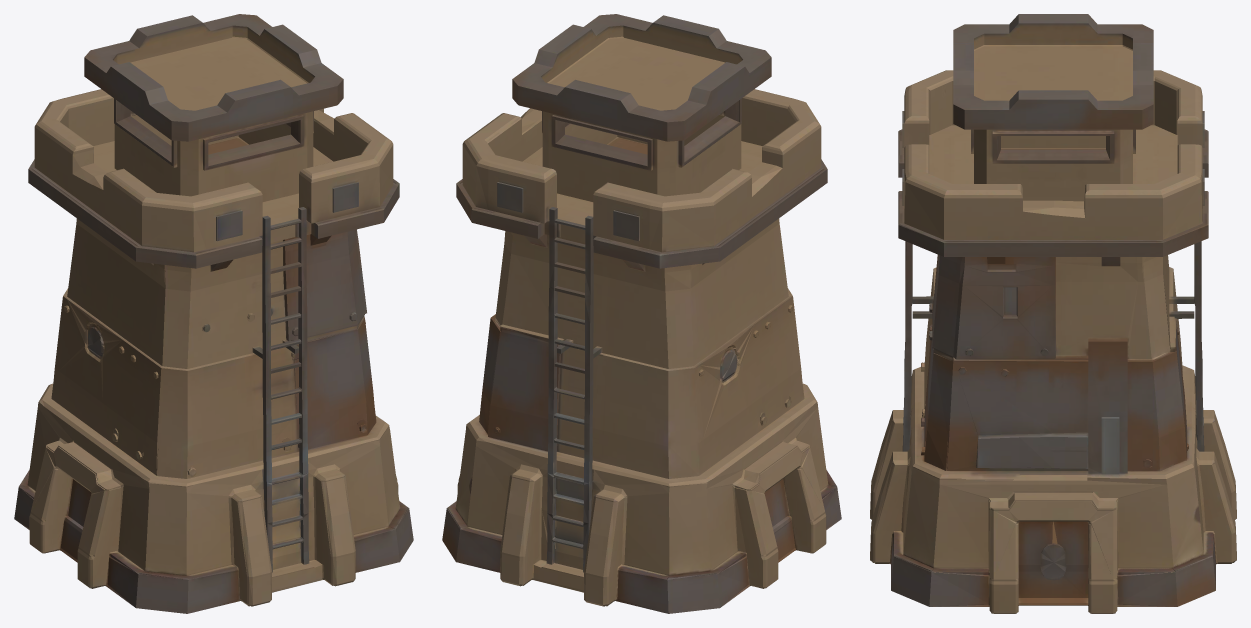
Rendered from desertwatchtower.glb.
3 renders of one model, left to right at view 1: azimuth 30°, elevation 25°; view 2: azimuth 150°, elevation 25°; view 3: azimuth 270°, elevation 25°, orthographic.
Parts seen in each view (by area): view 1: tripo_node_7511c0a8-983a-4b21-a645-5bea7c53e9ee; view 2: tripo_node_7511c0a8-983a-4b21-a645-5bea7c53e9ee; view 3: tripo_node_7511c0a8-983a-4b21-a645-5bea7c53e9ee.
Part boxes in pixels (box(x1,y1,x2,y2)): tripo_node_7511c0a8-983a-4b21-a645-5bea7c53e9ee: box(14, 14, 413, 613); tripo_node_7511c0a8-983a-4b21-a645-5bea7c53e9ee: box(442, 14, 841, 613); tripo_node_7511c0a8-983a-4b21-a645-5bea7c53e9ee: box(870, 14, 1236, 613).
Bounding box in the file's own units: 4.81 × 7 × 4.84.
Materials: 1 (1 with a texture image).
